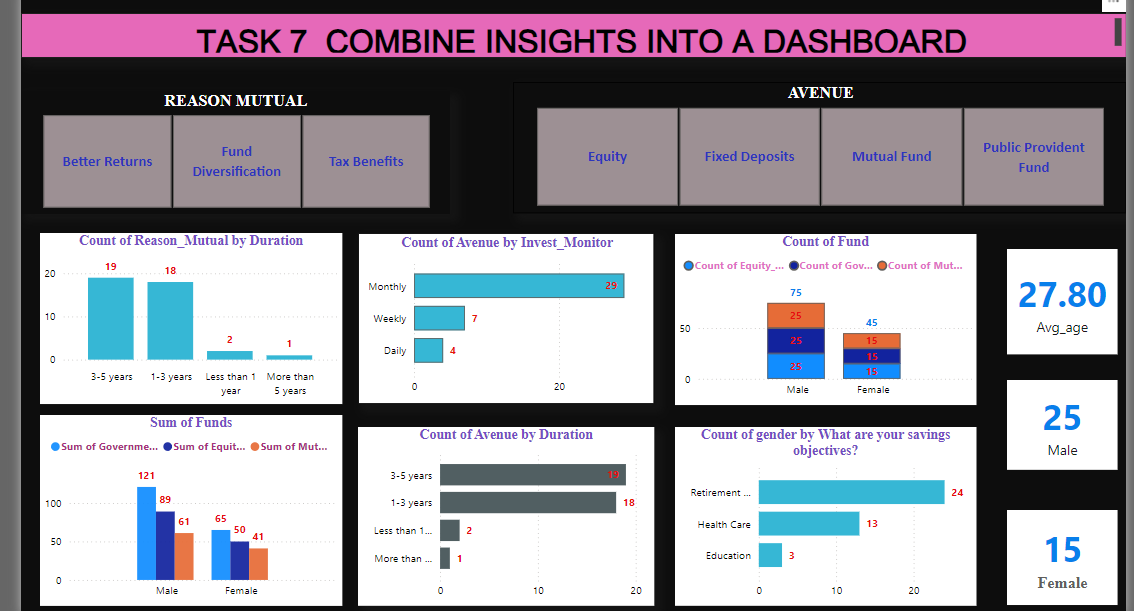

The page's visual inventory and layout, read from the dashboard file:
{"tool":"powerbi","page":{"name":"Task 7","canvas":[1280,720],"ordinal":6},"visuals":[{"type":"barChart","fields":{"Category":["Data_set 2.What are your savings objectives?"],"Y":["CountNonNull(Data_set 2.gender)"]},"box":[757.5,503.6,348.5,207.2],"z":0},{"type":"card","fields":{"Values":["Data_set 2.Avg_age"]},"box":[1141.7,297.8,127.6,122.1],"z":1000},{"type":"columnChart","title":"Count of Fund","fields":{"Category":["Data_set 2.gender"],"Y":["CountNonNull(Data_set 2.Equity_Market)","CountNonNull(Data_set 2.Government_Bonds)","CountNonNull(Data_set 2.Mutual_Funds)"]},"box":[757.5,279.9,348.5,197.6],"z":2000},{"type":"clusteredColumnChart","title":"Sum of Funds","fields":{"Category":["Data_set 2.gender"],"Y":["Sum(Data_set 2.Government_Bonds)","Sum(Data_set 2.Equity_Market)","Sum(Data_set 2.Mutual_Funds)"]},"box":[22,489.9,349.9,220.9],"z":3000},{"type":"card","fields":{"Values":["Data_set 2.Female"]},"box":[1141.2,599.9,128.2,110.4],"z":4000},{"type":"card","fields":{"Values":["Data_set 2.Male"]},"box":[1141.2,448.6,128.2,103.6],"z":5000},{"type":"slicer","title":"AVENUE","fields":{"Values":["Data_set 2.Avenue"]},"box":[570.1,103.8,710.2,152.3],"z":6000},{"type":"clusteredBarChart","fields":{"Category":["Data_set 2.Duration"],"Y":["CountNonNull(Data_set 2.Avenue)"]},"box":[389.7,503.6,343.1,207.2],"z":7000},{"type":"clusteredBarChart","fields":{"Y":["CountNonNull(Data_set 2.Avenue)"],"Category":["Data_set 2.Invest_Monitor"]},"box":[389.7,278.6,343.1,197.6],"z":8000},{"type":"slicer","title":"REASON MUTUAL","fields":{"Values":["Data_set 2.Reason_Mutual"]},"box":[0,114.6,497.3,141.5],"z":9000},{"type":"columnChart","fields":{"Category":["Data_set 2.Duration"],"Y":["CountNonNull(Data_set 2.Reason_Mutual)"]},"box":[22,278.6,349.9,197.6],"z":10000},{"type":"textbox","box":[0,24.7,1280.3,52.1],"z":11000}]}

Visuals, with their boxes in screenshot pixels (x1, y1, x2, y2):
barChart - Data_set 2.What are your savings objectives? x CountNonNull(Data_set 2.gender): <region>672, 425, 975, 605</region>
card - Data_set 2.Avg_age: <region>1006, 247, 1117, 353</region>
"Count of Fund" columnChart: <region>672, 231, 975, 403</region>
"Sum of Funds" clusteredColumnChart: <region>34, 413, 338, 605</region>
card - Data_set 2.Female: <region>1005, 509, 1117, 605</region>
card - Data_set 2.Male: <region>1005, 378, 1117, 468</region>
"AVENUE" slicer: <region>510, 78, 1126, 211</region>
clusteredBarChart - Data_set 2.Duration x CountNonNull(Data_set 2.Avenue): <region>353, 425, 651, 605</region>
clusteredBarChart - CountNonNull(Data_set 2.Avenue) x Data_set 2.Invest_Monitor: <region>353, 230, 651, 402</region>
"REASON MUTUAL" slicer: <region>15, 88, 446, 211</region>
columnChart - Data_set 2.Duration x CountNonNull(Data_set 2.Reason_Mutual): <region>34, 230, 338, 402</region>
textbox: <region>15, 10, 1126, 55</region>
